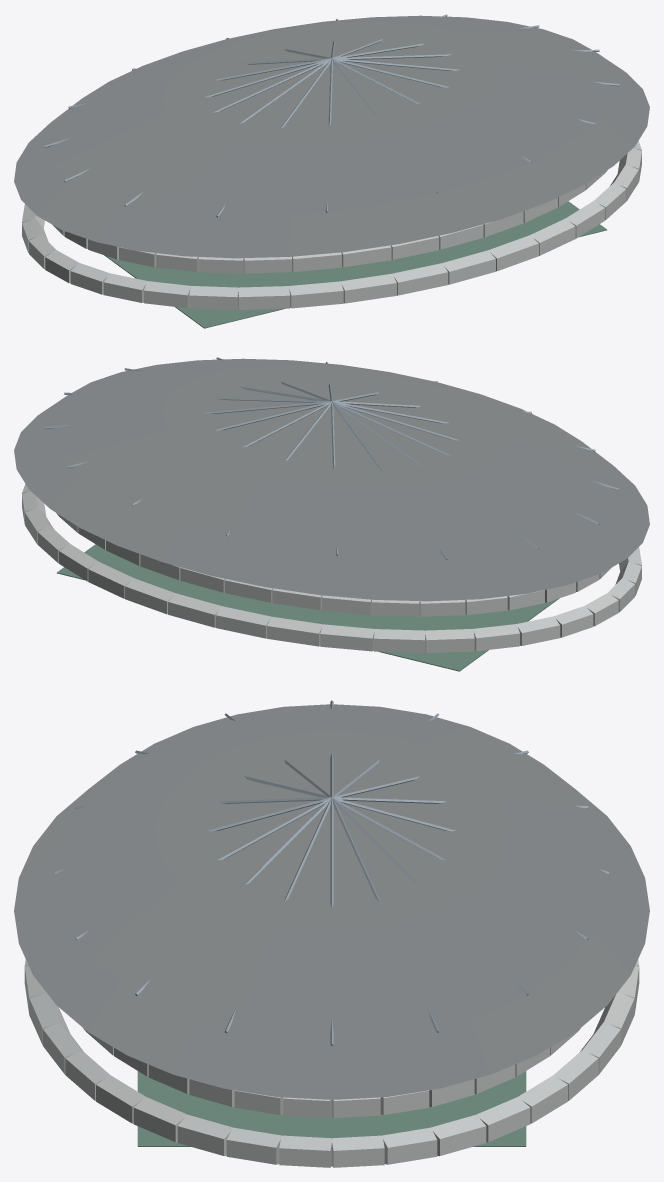
Rendered from source.glb.
The picture shows the model from 3 angles, top to bottom: view 1: azimuth 30°, elevation 25°; view 2: azimuth 150°, elevation 25°; view 3: azimuth 270°, elevation 25°; orthographic projection. The views are drawn at different scales.
Parts seen in each view (by area): view 1: worldgen; view 2: worldgen; view 3: worldgen.
Boxes of the visible parts, box(x1,y1,x2,y2) form: worldgen: box(14, 14, 649, 328); worldgen: box(14, 357, 649, 671); worldgen: box(14, 700, 649, 1167).
Bounding box in the file's own units: 152 × 41.27 × 108.
